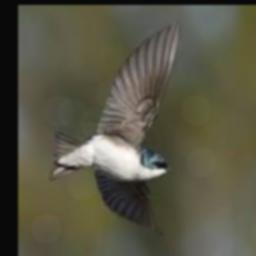Swallow: (50, 21, 182, 235)
